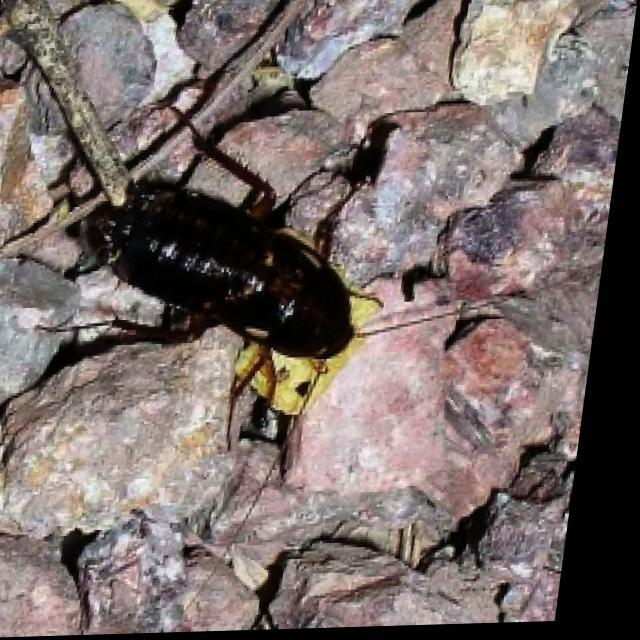cockroach: (48, 146, 364, 393)
